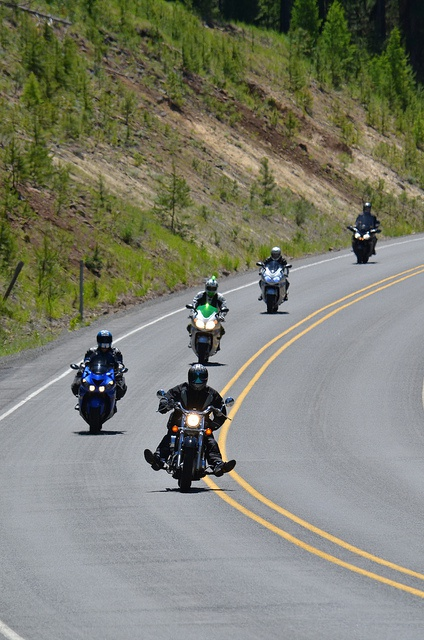non-vehicle: (154, 390, 233, 490), (68, 357, 127, 431), (184, 303, 228, 363), (255, 261, 291, 313), (346, 219, 379, 263)
